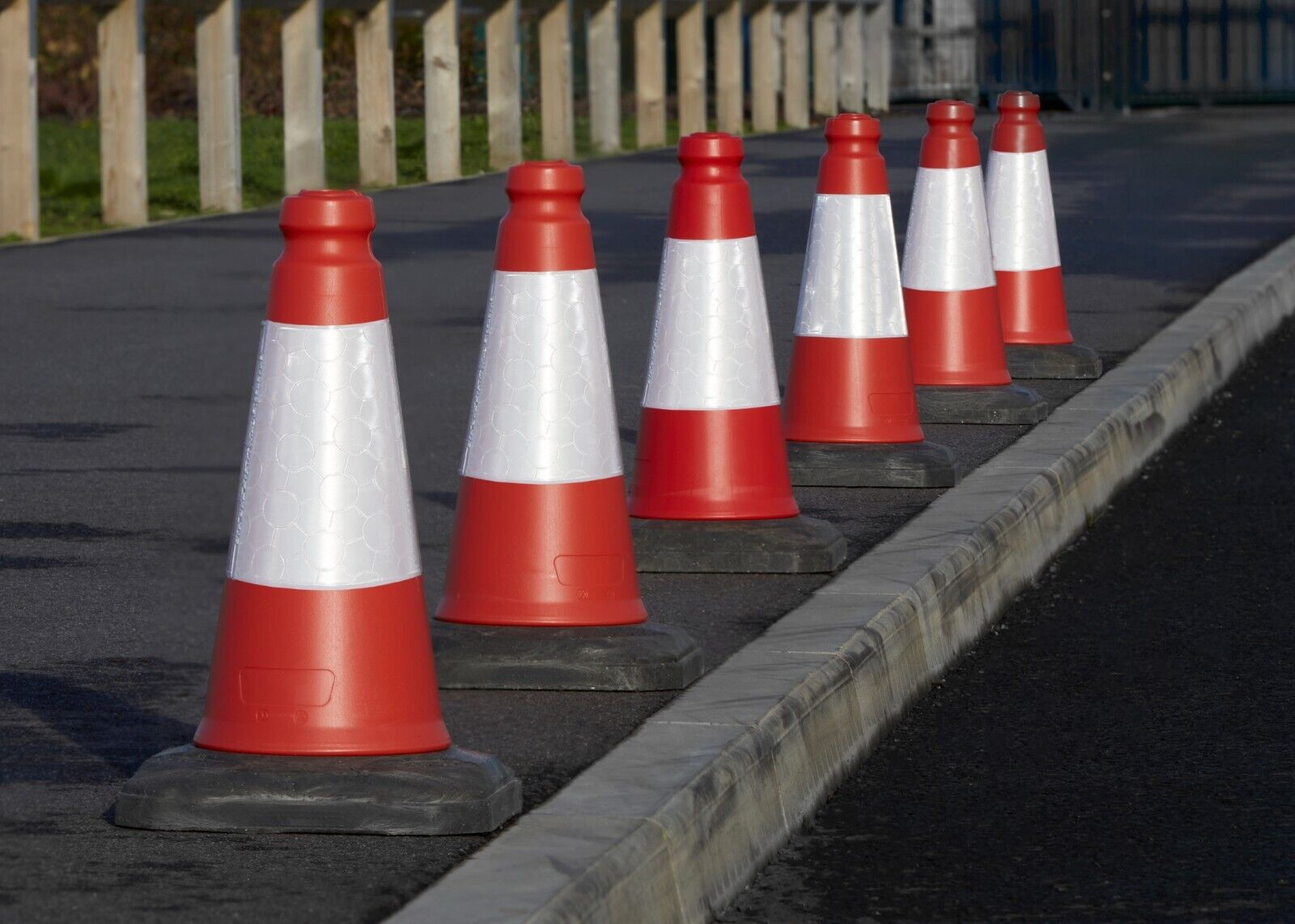Road_cone: (210, 185, 507, 829), (426, 162, 702, 690), (621, 134, 841, 579), (769, 112, 962, 489), (893, 106, 1051, 428), (980, 92, 1117, 381)
